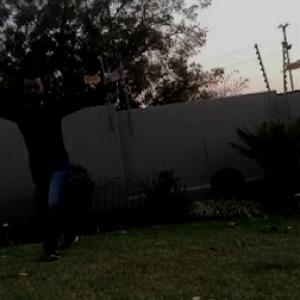takeoff: (1, 66, 144, 260)
